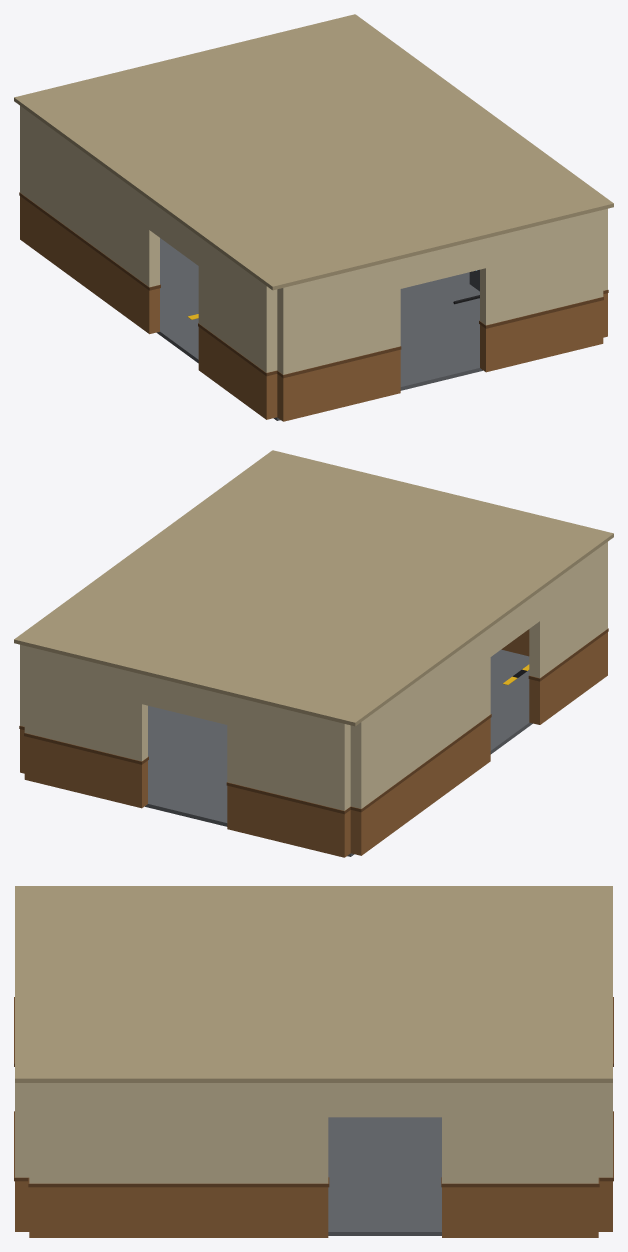
File: room_robotics_charging_bay.glb
3 renders of one model, top to bottom at view 1: azimuth 30°, elevation 25°; view 2: azimuth 150°, elevation 25°; view 3: azimuth 270°, elevation 25°, orthographic. The views are drawn at different scales.
Parts seen in each view (by area): view 1: room_robotics_charging_bay; view 2: room_robotics_charging_bay; view 3: room_robotics_charging_bay.
Part boxes in pixels (x1,y1,x2,y2): room_robotics_charging_bay: (14,14,613,421); room_robotics_charging_bay: (14,450,613,857); room_robotics_charging_bay: (14,886,613,1237).
Size of the model in its own units: 9.62 by 3.8 by 12.64.
1 material, 1 textured.
